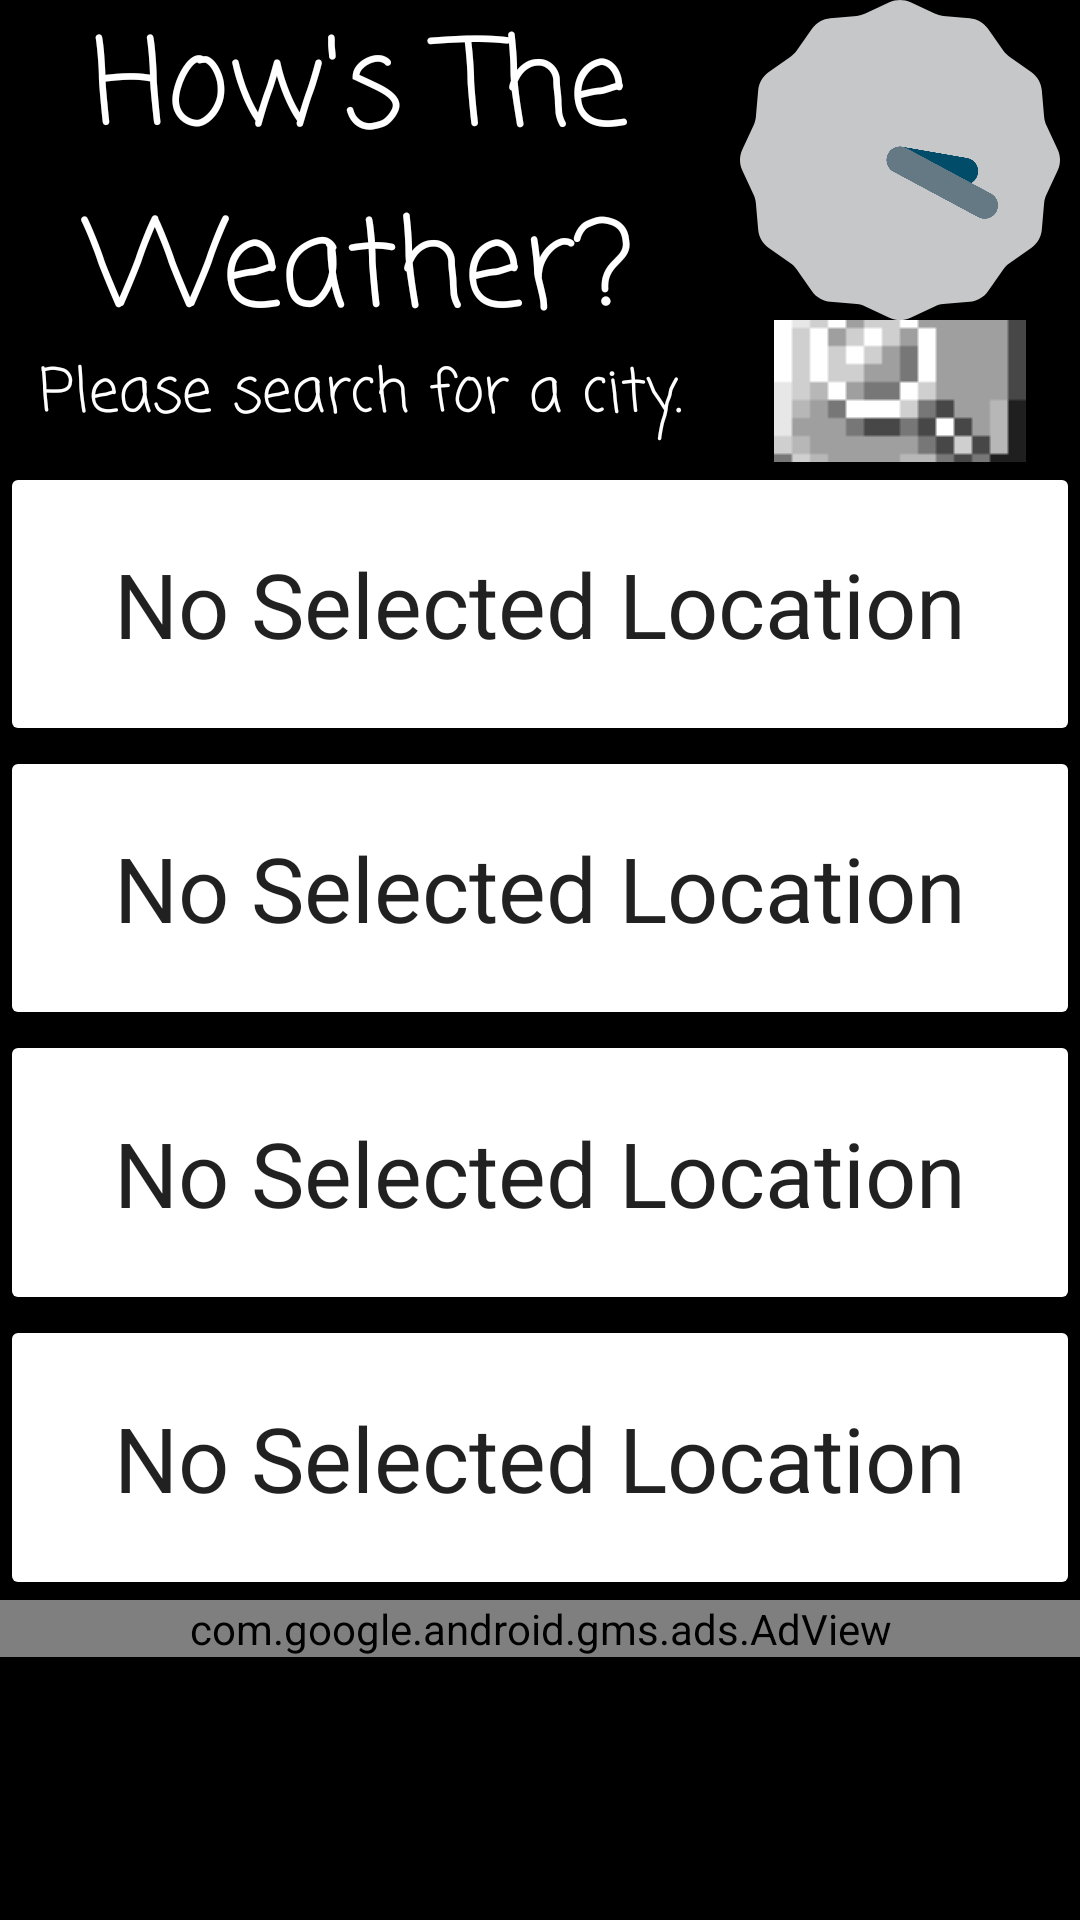

Where icons sit on this 1080×1920 app screen, as (x1, y1, x2, y2):
Search for the inputted city!: (774, 320, 1026, 462)
